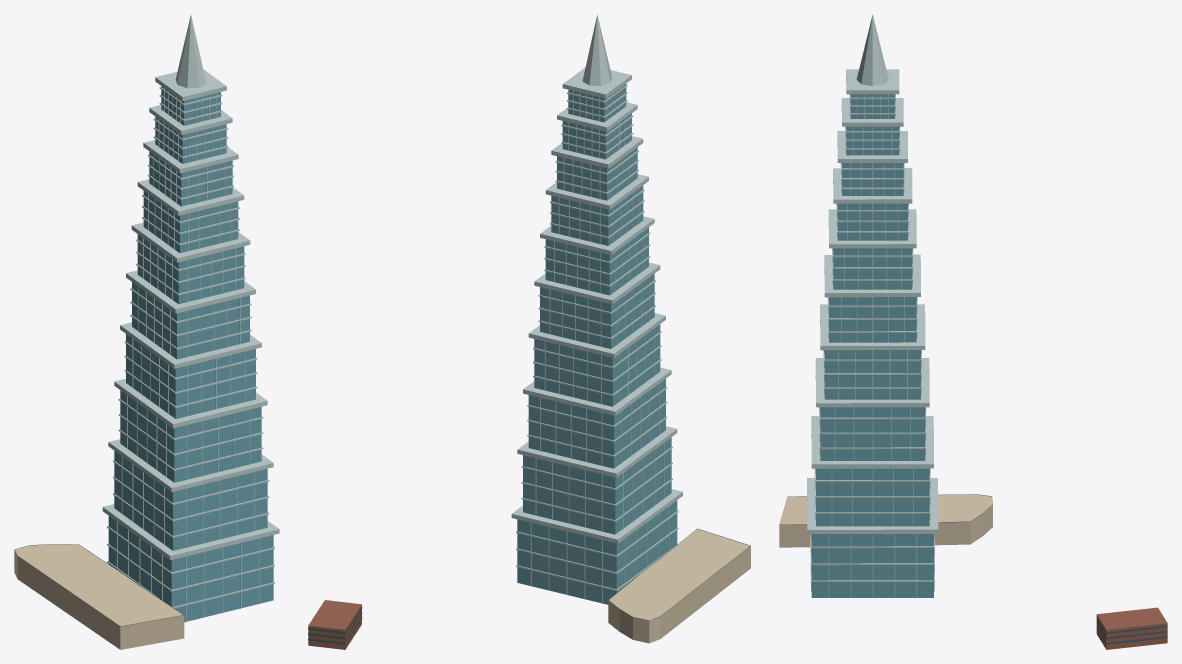
The model's file is city_4_-1.glb.
3 renders of one model, left to right at view 1: azimuth 30°, elevation 25°; view 2: azimuth 150°, elevation 25°; view 3: azimuth 270°, elevation 25°, orthographic. The views are drawn at different scales.
Visible parts, largest first — view 1: city_4_-1; view 2: city_4_-1; view 3: city_4_-1.
Boxes of the visible parts, box(x1,y1,x2,y2) form: city_4_-1: box(14, 15, 279, 649); city_4_-1: box(308, 15, 750, 649); city_4_-1: box(779, 14, 1167, 649).
Bounding box in the file's own units: 214 × 420 × 264.
